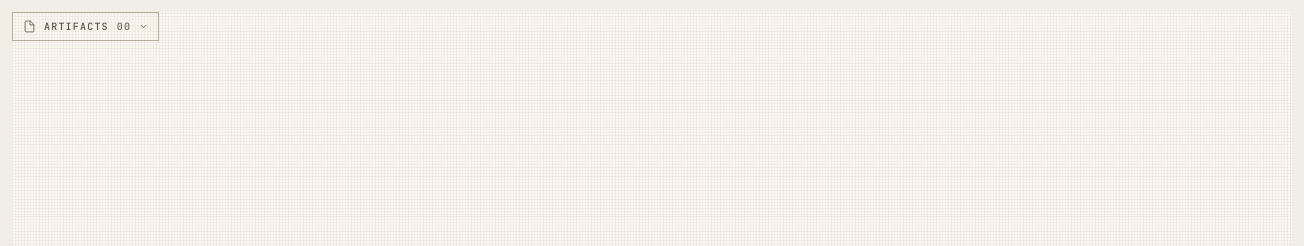
ArtifactsMenu › says so when no artifacts exist yet
Click the button titled "Artifacts".
click(86, 26)  # box 12,12 -> 159,41
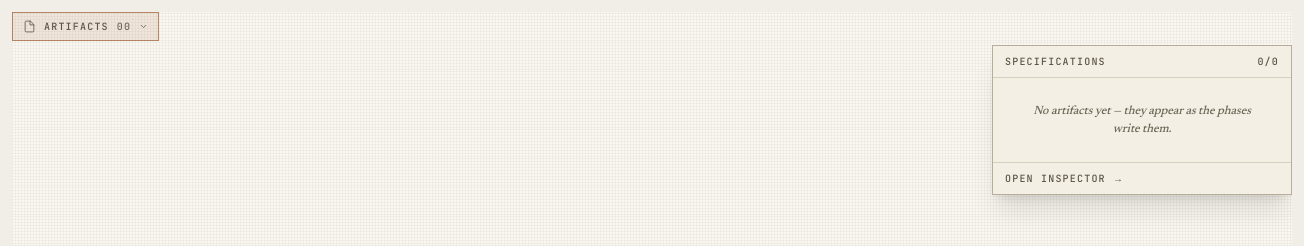
Check: the text "No artifacts yet — they appear as the phases write them." is shown, box 1033,105 -> 1251,135
